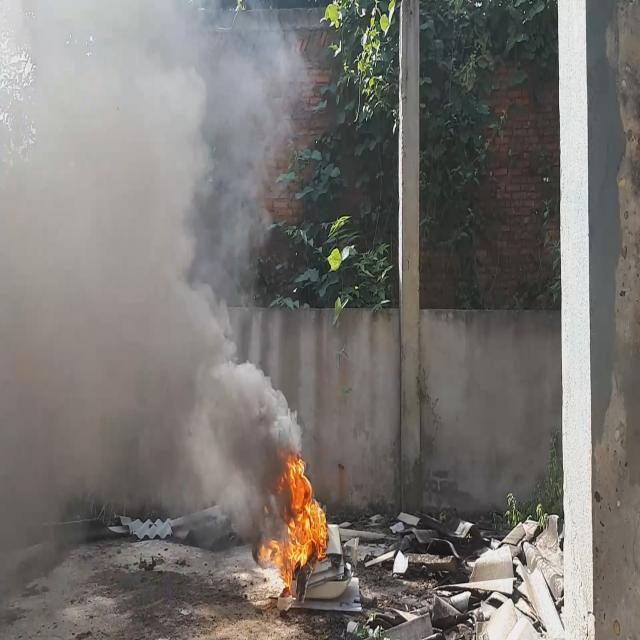Fire: (256, 446, 331, 595)
Smoke: (0, 0, 317, 594)
